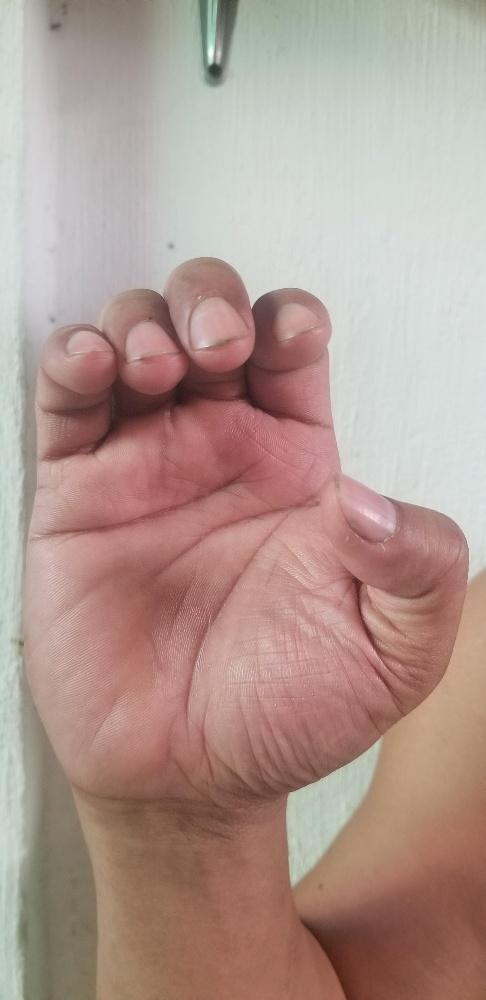e: (24, 253, 469, 798)
